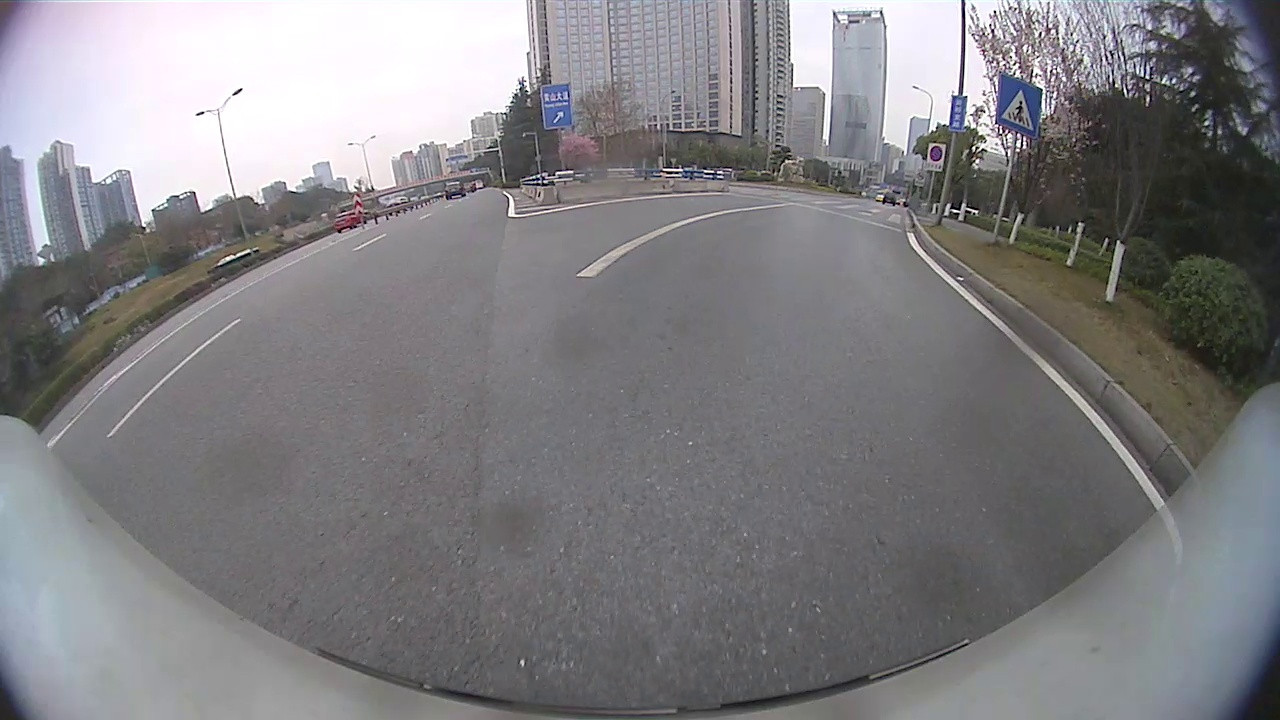car: (333, 209, 365, 233), (443, 179, 465, 200)
